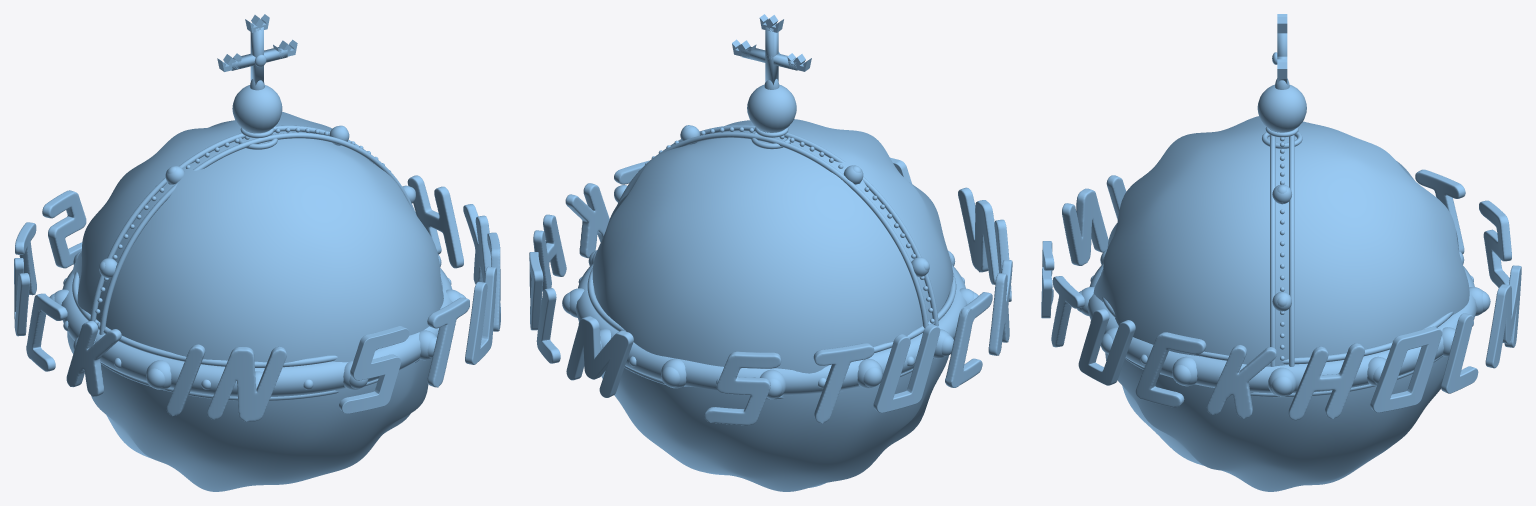
File: blobben.glb
3 renders of one model, left to right at view 1: azimuth 30°, elevation 25°; view 2: azimuth 150°, elevation 25°; view 3: azimuth 270°, elevation 25°, orthographic.
Parts seen in each view (by area): view 1: BLOBBI part 02, Raven Live Script preview (×13), BLOBBI part 06, BLOBBI part 07, BLOBBI part 04, BLOBBI part 03, BLOBBI part 05; view 2: BLOBBI part 02, Raven Live Script preview (×12), BLOBBI part 06, BLOBBI part 07, BLOBBI part 04, BLOBBI part 03, BLOBBI part 05; view 3: BLOBBI part 02, Raven Live Script preview (×12), BLOBBI part 06, BLOBBI part 07, BLOBBI part 04, BLOBBI part 03, BLOBBI part 05.
Boxes of the visible parts, box(x1,y1,x2,y2) form: BLOBBI part 02: box(67, 111, 443, 491); Raven Live Script preview (×13): box(14, 175, 500, 421); BLOBBI part 06: box(61, 125, 452, 400); BLOBBI part 07: box(231, 27, 287, 149); BLOBBI part 04: box(54, 126, 460, 389); BLOBBI part 03: box(49, 54, 465, 388); BLOBBI part 05: box(63, 127, 451, 389); BLOBBI part 02: box(592, 119, 953, 491); Raven Live Script preview (×12): box(529, 183, 1012, 425); BLOBBI part 06: box(575, 125, 966, 399); BLOBBI part 07: box(741, 27, 797, 149); BLOBBI part 04: box(569, 125, 973, 399); BLOBBI part 03: box(562, 52, 978, 398); BLOBBI part 05: box(578, 127, 964, 387); BLOBBI part 02: box(1093, 116, 1469, 491); Raven Live Script preview (×12): box(1041, 169, 1521, 420); BLOBBI part 06: box(1087, 135, 1477, 397); BLOBBI part 07: box(1257, 33, 1306, 148); BLOBBI part 04: box(1081, 184, 1482, 396); BLOBBI part 03: box(1077, 52, 1490, 396); BLOBBI part 05: box(1090, 137, 1473, 364).
Bounding box in the file's own units: 0.2723 × 0.2839 × 0.2722.
